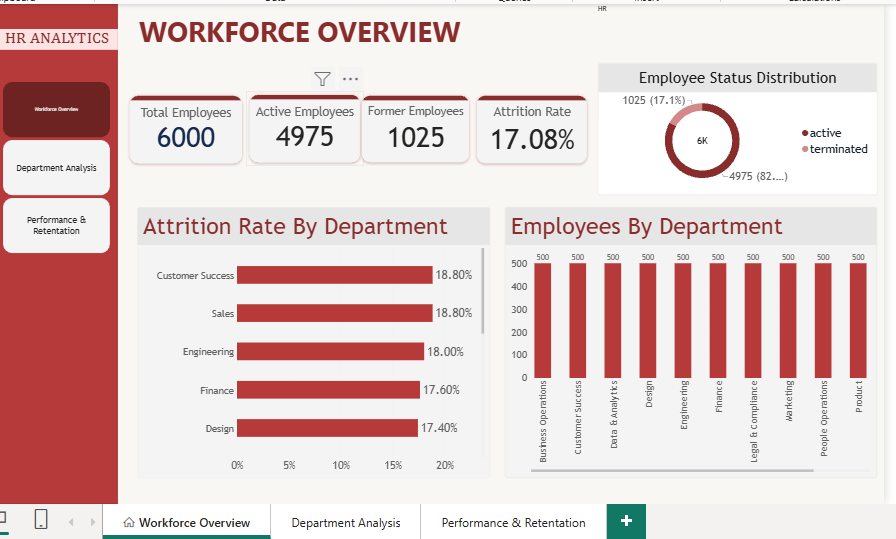

The page's visual inventory and layout, read from the dashboard file:
{"tool":"powerbi","page":{"name":"Workforce Overview","canvas":[2560,1440],"ordinal":0},"visuals":[{"type":"cardVisual","fields":{"Data":["Employee Snapshot.Total Employees"]},"box":[374.4,253.4,345.6,216],"z":0},{"type":"cardVisual","fields":{"Data":["Employee Snapshot.Active Employees"]},"box":[720,250.6,339.8,216],"z":1000},{"type":"cardVisual","fields":{"Data":["Employee Snapshot.Former Employees"]},"box":[1042.6,253.4,331.2,213.1],"z":2000},{"type":"cardVisual","fields":{"Data":["Employee Snapshot.Attrition Rate"]},"box":[1373.8,253.4,339.8,216],"z":3000},{"type":"textbox","title":"WORKFORCE OVERVIEW","box":[411.8,23,1010,100],"z":4000},{"type":"donutChart","title":"Employee Status Distribution","fields":{"Category":["Employee Snapshot.employment_status"],"Y":["CountNonNull(Employee Snapshot.employee_id)"]},"box":[1733.8,169.9,803.5,380.2],"z":5000},{"type":"clusteredColumnChart","title":"Employees By Department","fields":{"Category":["Employee Snapshot.department_name"],"Y":["CountNonNull(Employee Snapshot.employee_id)"]},"box":[1465.9,584.6,1071.4,780.5],"z":6000},{"type":"clusteredBarChart","title":"Attrition Rate By Department","fields":{"Category":["Employee Snapshot.department_name"],"Y":["Employee Snapshot.Attrition Rate"]},"box":[406.1,584.6,1016.6,780.5],"z":7000},{"type":"shape","box":[0,0,351.4,1440],"z":8000},{"type":"textbox","box":[1422.7,72,290.9,77.8],"z":9000},{"type":"textbox","title":"HR ","box":[1734,0,804,150],"z":10000},{"type":"pageNavigator","box":[20.2,224.6,308.2,495.4],"z":11000},{"type":"textbox","title":"HR ANALYTICS","box":[0,72,351.4,60.5],"z":12000}]}

Visuals, with their boxes on the page's 2560x1440 design canvas (x1, y1, x2, y2). These are canvas units, not pixel positions in the 896x539 screenshot, which may show the page scaled, cropped or inside an application window:
cardVisual - Employee Snapshot.Total Employees: Rect(374, 253, 720, 469)
cardVisual - Employee Snapshot.Active Employees: Rect(720, 251, 1060, 467)
cardVisual - Employee Snapshot.Former Employees: Rect(1043, 253, 1374, 466)
cardVisual - Employee Snapshot.Attrition Rate: Rect(1374, 253, 1714, 469)
"WORKFORCE OVERVIEW" textbox: Rect(412, 23, 1422, 123)
"Employee Status Distribution" donutChart: Rect(1734, 170, 2537, 550)
"Employees By Department" clusteredColumnChart: Rect(1466, 585, 2537, 1365)
"Attrition Rate By Department" clusteredBarChart: Rect(406, 585, 1423, 1365)
shape: Rect(0, 0, 351, 1440)
textbox: Rect(1423, 72, 1714, 150)
"HR " textbox: Rect(1734, 0, 2538, 150)
pageNavigator: Rect(20, 225, 328, 720)
"HR ANALYTICS" textbox: Rect(0, 72, 351, 132)
